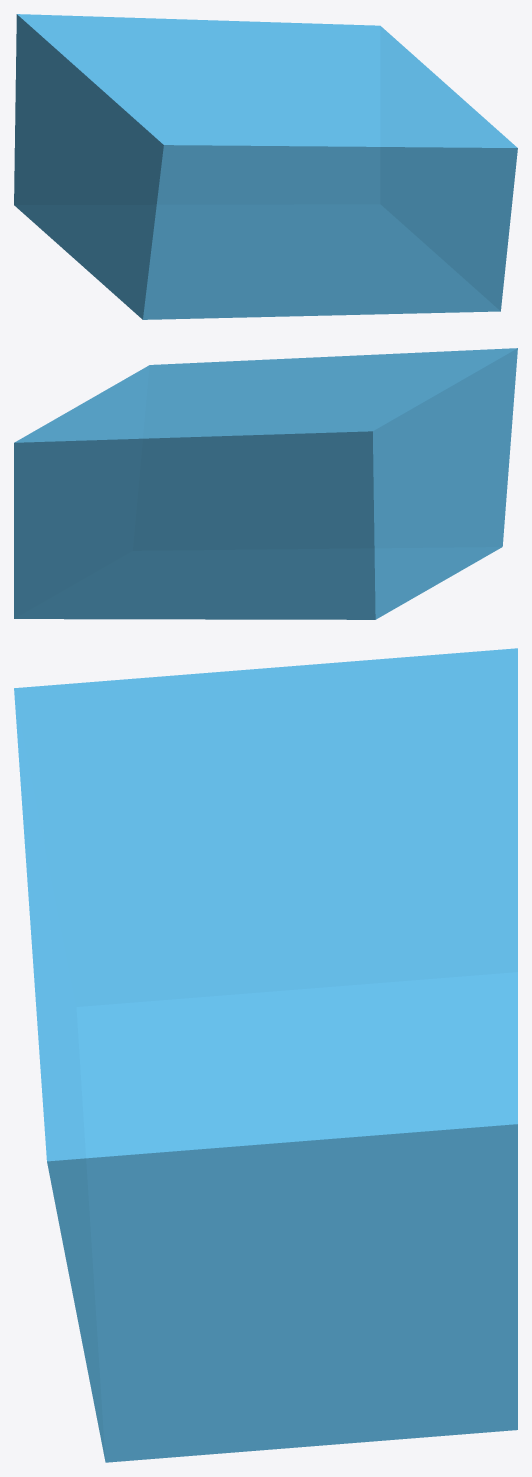
Rendered from Event_421115418_HErechit_19.fbx.
3 renders of one model, top to bottom at view 1: azimuth 30°, elevation 25°; view 2: azimuth 150°, elevation 25°; view 3: azimuth 270°, elevation 25°, orthographic. The views are drawn at different scales.
Parts seen in each view (by area): view 1: Model; view 2: Model; view 3: Model.
Part boxes in pixels (x1=…): Model: x1=14, y1=14, x2=517, y2=319; Model: x1=14, y1=348, x2=517, y2=619; Model: x1=14, y1=648, x2=517, y2=1462.
Bounding box in the file's own units: 0.7167 × 0.557 × 0.4984.
